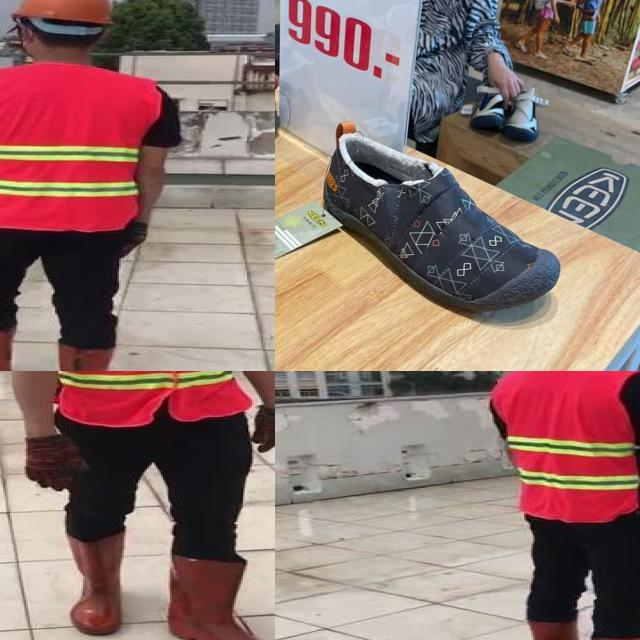Sandals: (317, 103, 587, 344)
boots: (172, 555, 275, 640), (63, 533, 131, 635), (518, 616, 591, 640), (60, 341, 115, 371)
hand_glove: (19, 435, 87, 493), (250, 402, 275, 453), (119, 223, 146, 258)
head_helmet: (11, 0, 114, 28)
person: (0, 371, 275, 640), (0, 0, 184, 371), (472, 371, 640, 640)
vest: (0, 64, 158, 228), (488, 371, 640, 526), (51, 371, 253, 426)
